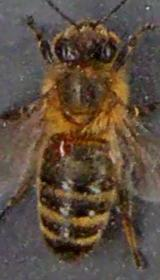varroa_mite: (46, 129, 80, 161)
